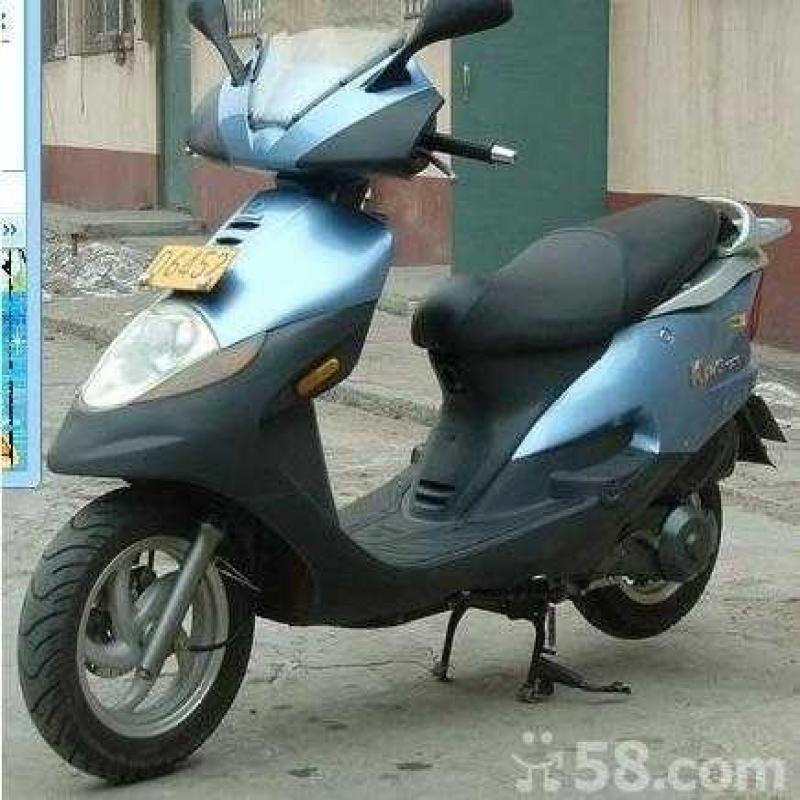bike: (39, 4, 745, 800)
